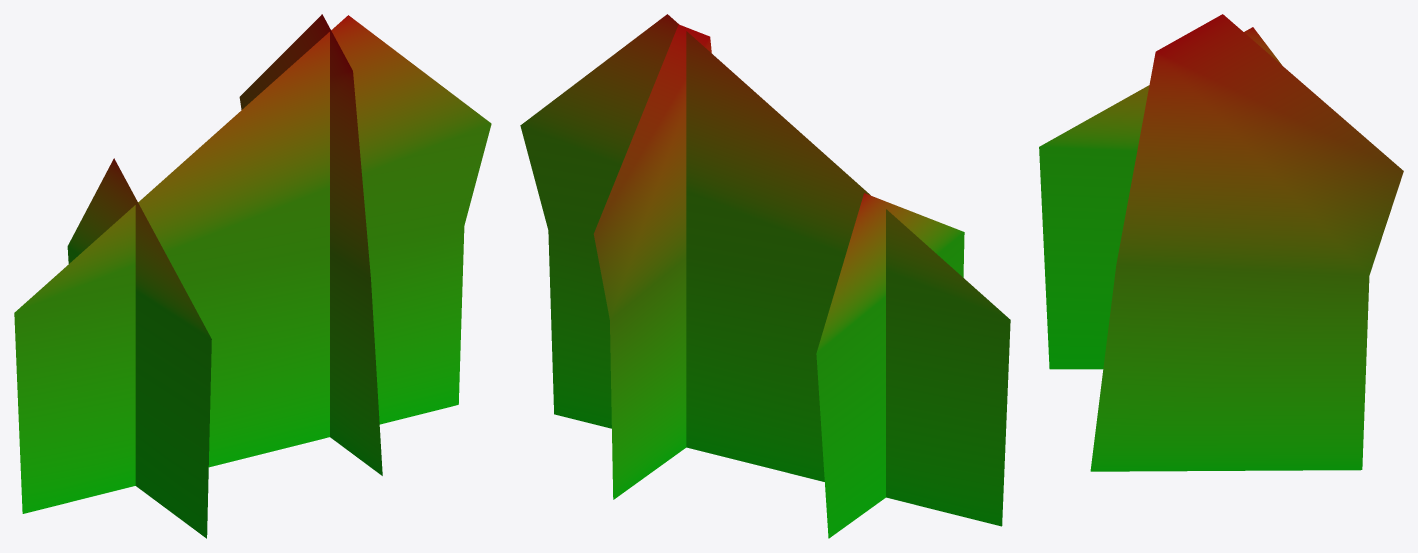
The model's file is Var6_LOD4.fbx.
The picture shows the model from 3 angles, left to right: view 1: azimuth 30°, elevation 25°; view 2: azimuth 150°, elevation 25°; view 3: azimuth 270°, elevation 25°; orthographic projection. The views are drawn at different scales.
Visible parts, largest first — view 1: _yl6b_Var6_LOD4; view 2: _yl6b_Var6_LOD4; view 3: _yl6b_Var6_LOD4.
Boxes of the visible parts, x1,y1,x2,y2 form: _yl6b_Var6_LOD4: (14,14,491,538); _yl6b_Var6_LOD4: (520,14,1010,538); _yl6b_Var6_LOD4: (1039,14,1403,471).
Bounding box in the file's own units: 25.04 × 21.03 × 15.14.
